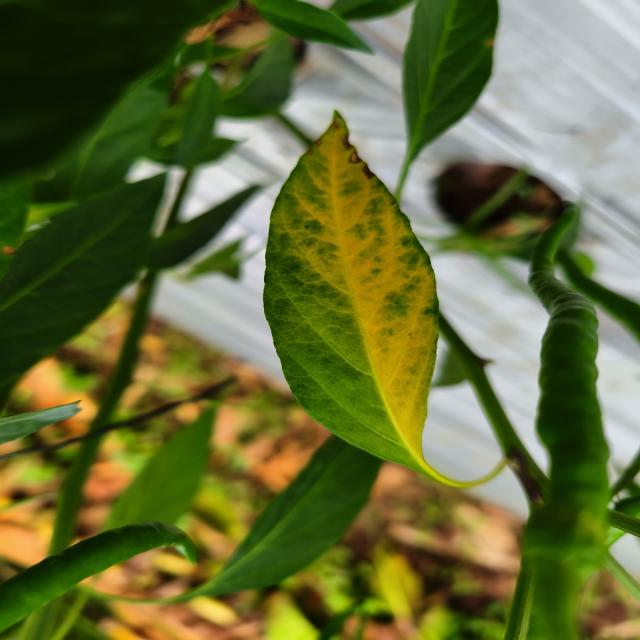Virus Kuning: (261, 110, 444, 489)
